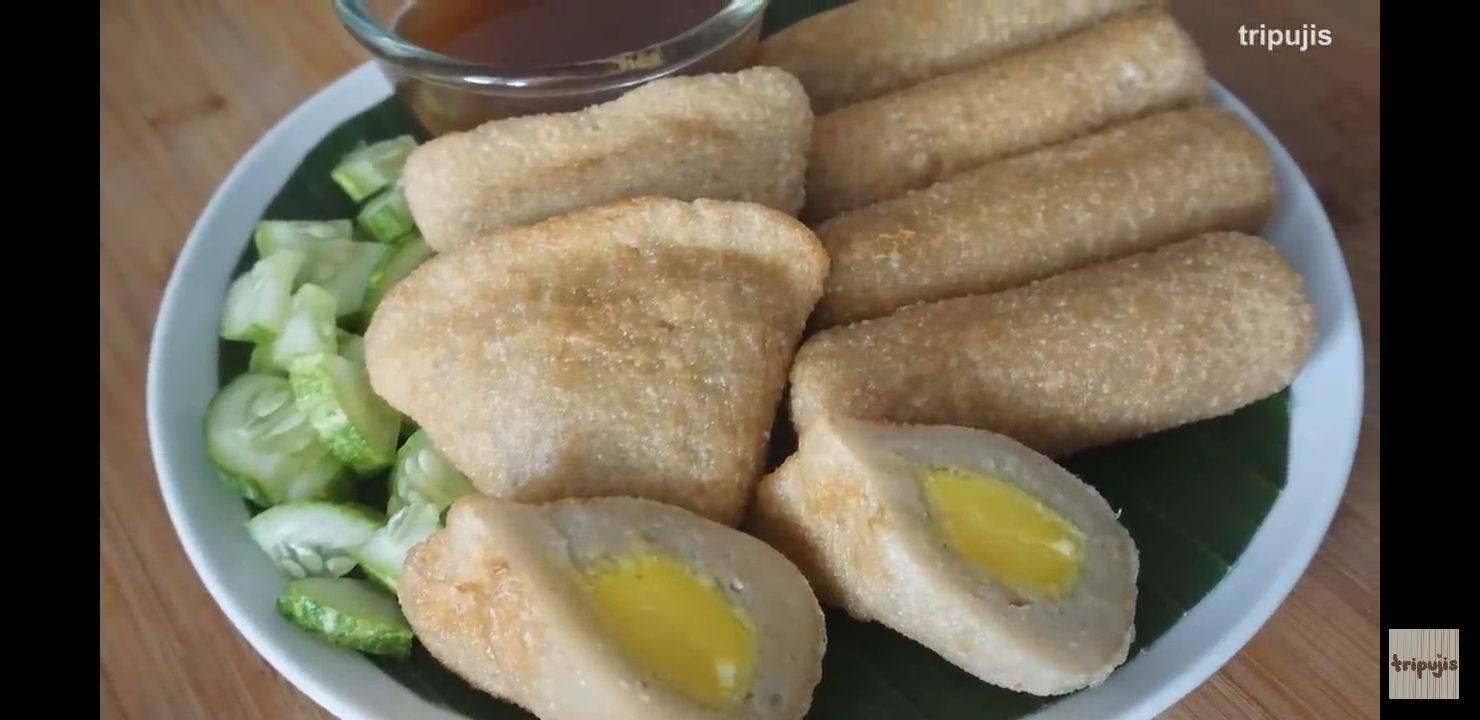pempek: (363, 3, 1316, 720)
